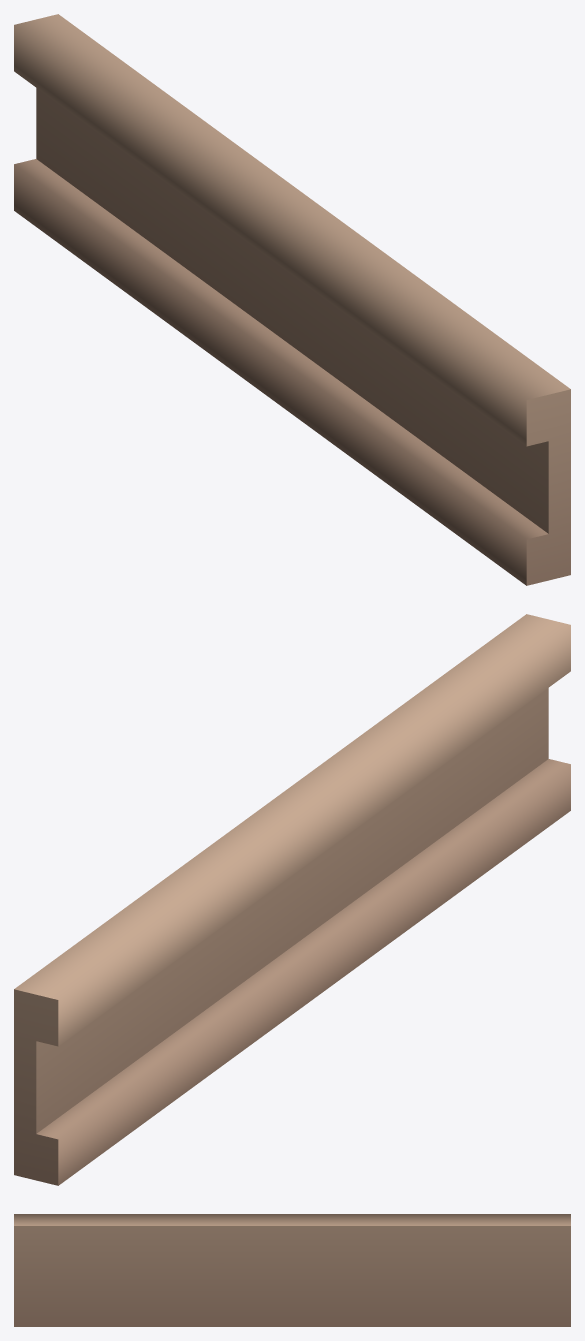
The model's file is baseboard-detailed (%wall).glb.
3 renders of one model, top to bottom at view 1: azimuth 30°, elevation 25°; view 2: azimuth 150°, elevation 25°; view 3: azimuth 270°, elevation 25°, orthographic. The views are drawn at different scales.
Parts seen in each view (by area): view 1: baseboard-detailed (%wall); view 2: baseboard-detailed (%wall); view 3: baseboard-detailed (%wall).
Part boxes in pixels (box(x1,y1,x2,y2)): baseboard-detailed (%wall): box(14, 14, 570, 585); baseboard-detailed (%wall): box(14, 614, 570, 1185); baseboard-detailed (%wall): box(14, 1214, 570, 1326).
Size of the model in its own units: 0.05 by 0.2 by 1.
